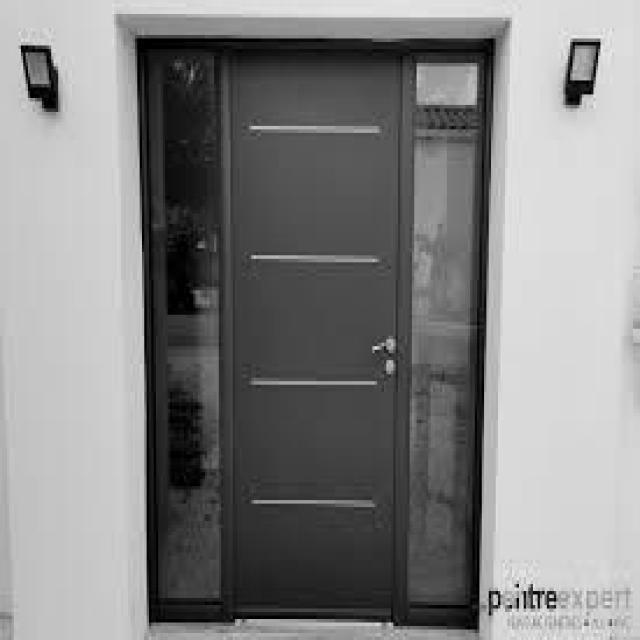door: (220, 46, 407, 621)
